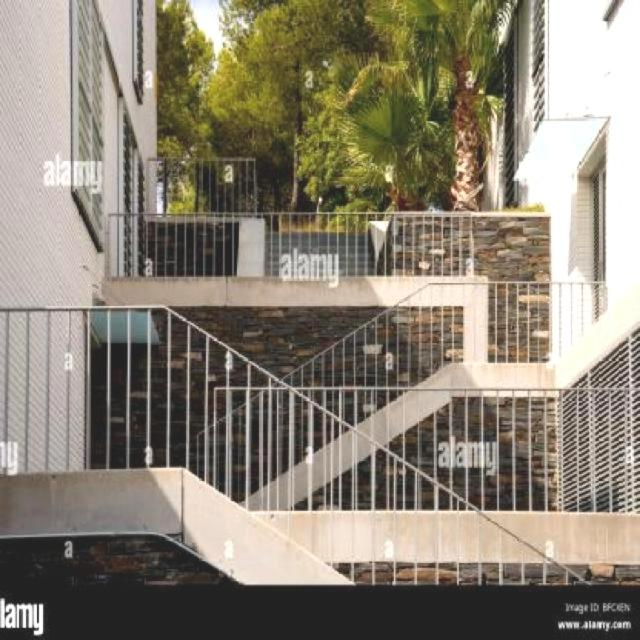stair: (117, 259, 515, 547)
